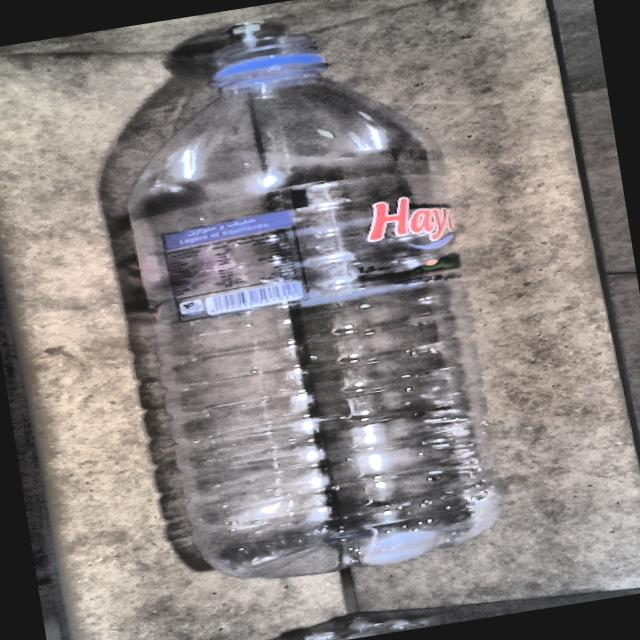plastic bottle: (128, 36, 501, 579)
